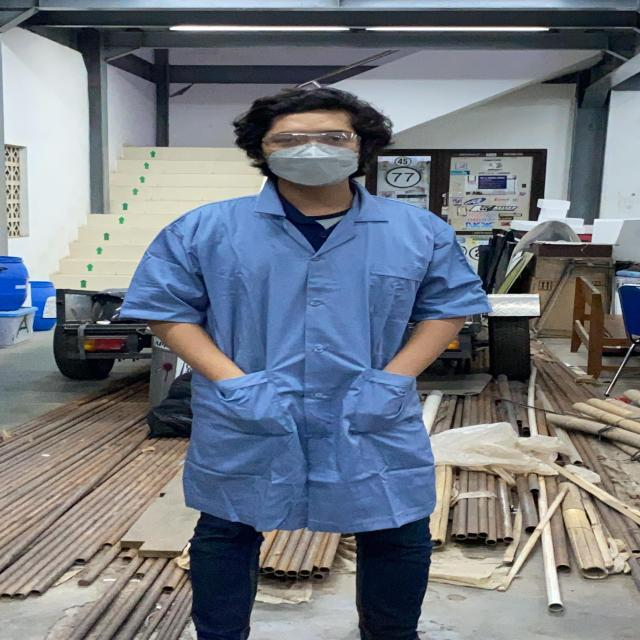glasses: (255, 129, 369, 152)
